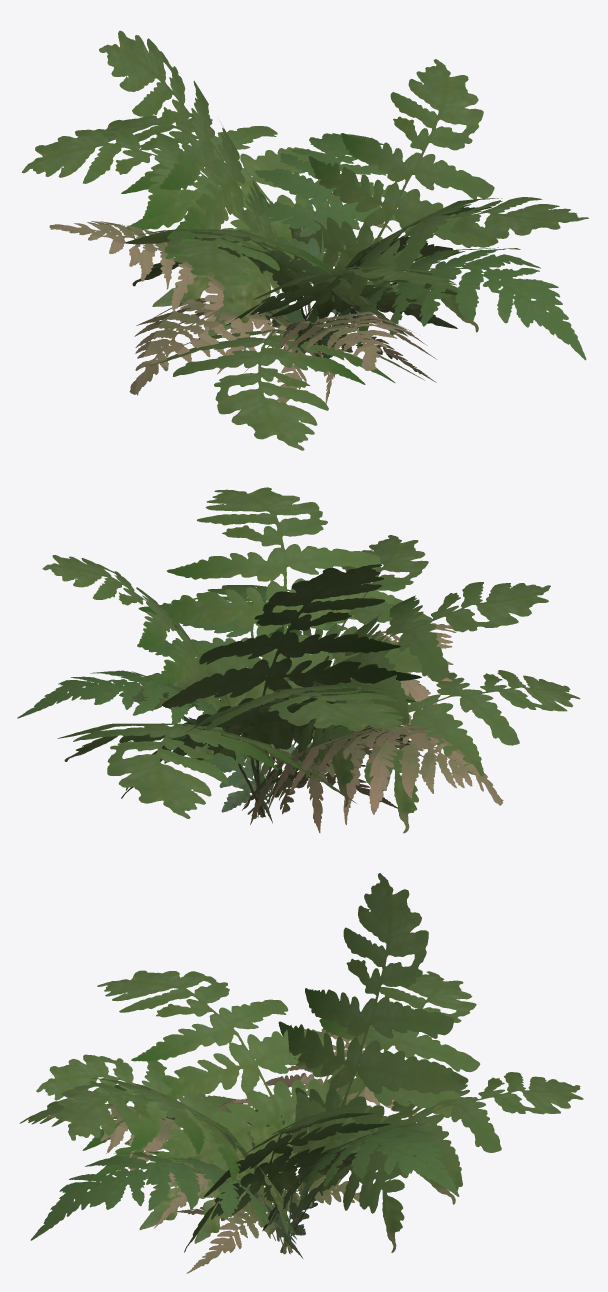
Rendered from NATURE_FERN_04.fbx.
3 renders of one model, top to bottom at view 1: azimuth 30°, elevation 25°; view 2: azimuth 150°, elevation 25°; view 3: azimuth 270°, elevation 25°, orthographic. The views are drawn at different scales.
Parts seen in each view (by area): view 1: NATURE_FERN_04; view 2: NATURE_FERN_04; view 3: NATURE_FERN_04.
Boxes of the visible parts, x1,y1,x2,y2 form: NATURE_FERN_04: (22, 30, 588, 450); NATURE_FERN_04: (17, 487, 580, 833); NATURE_FERN_04: (19, 873, 583, 1273).
Bounding box in the file's own units: 119 × 93.13 × 154.
1 material, 1 textured.
